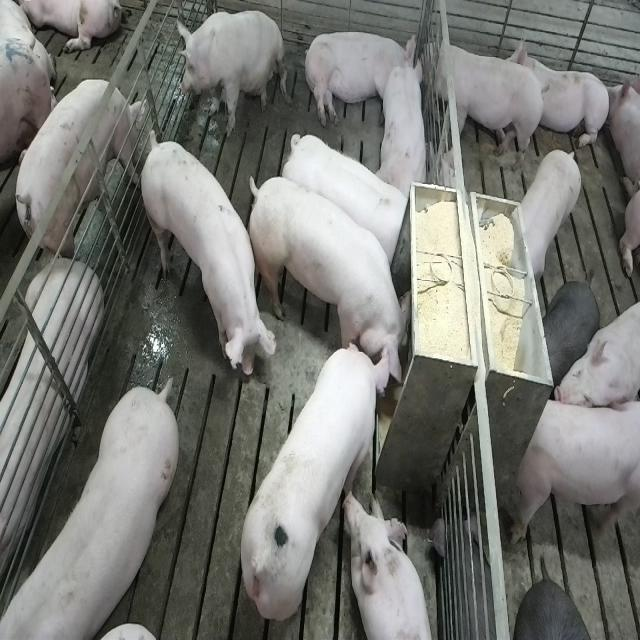Feeding: (238, 338, 394, 624), (251, 174, 418, 392)
Lateral_lying: (0, 260, 101, 601), (302, 28, 419, 128)
Sitting: (176, 8, 286, 138)
Standing: (0, 381, 176, 640), (137, 132, 272, 387), (9, 78, 141, 268), (512, 391, 637, 544), (282, 130, 412, 268), (424, 28, 547, 173), (515, 144, 584, 282)
Sternal_lying: (346, 490, 437, 640), (514, 34, 612, 156), (379, 48, 432, 201)
